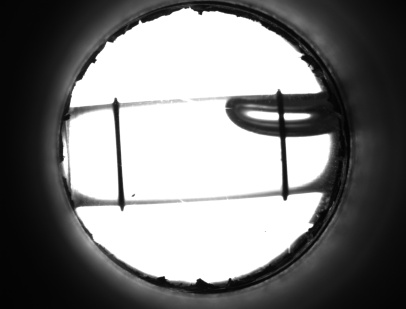line: (110, 119, 128, 193), (274, 145, 293, 185)
